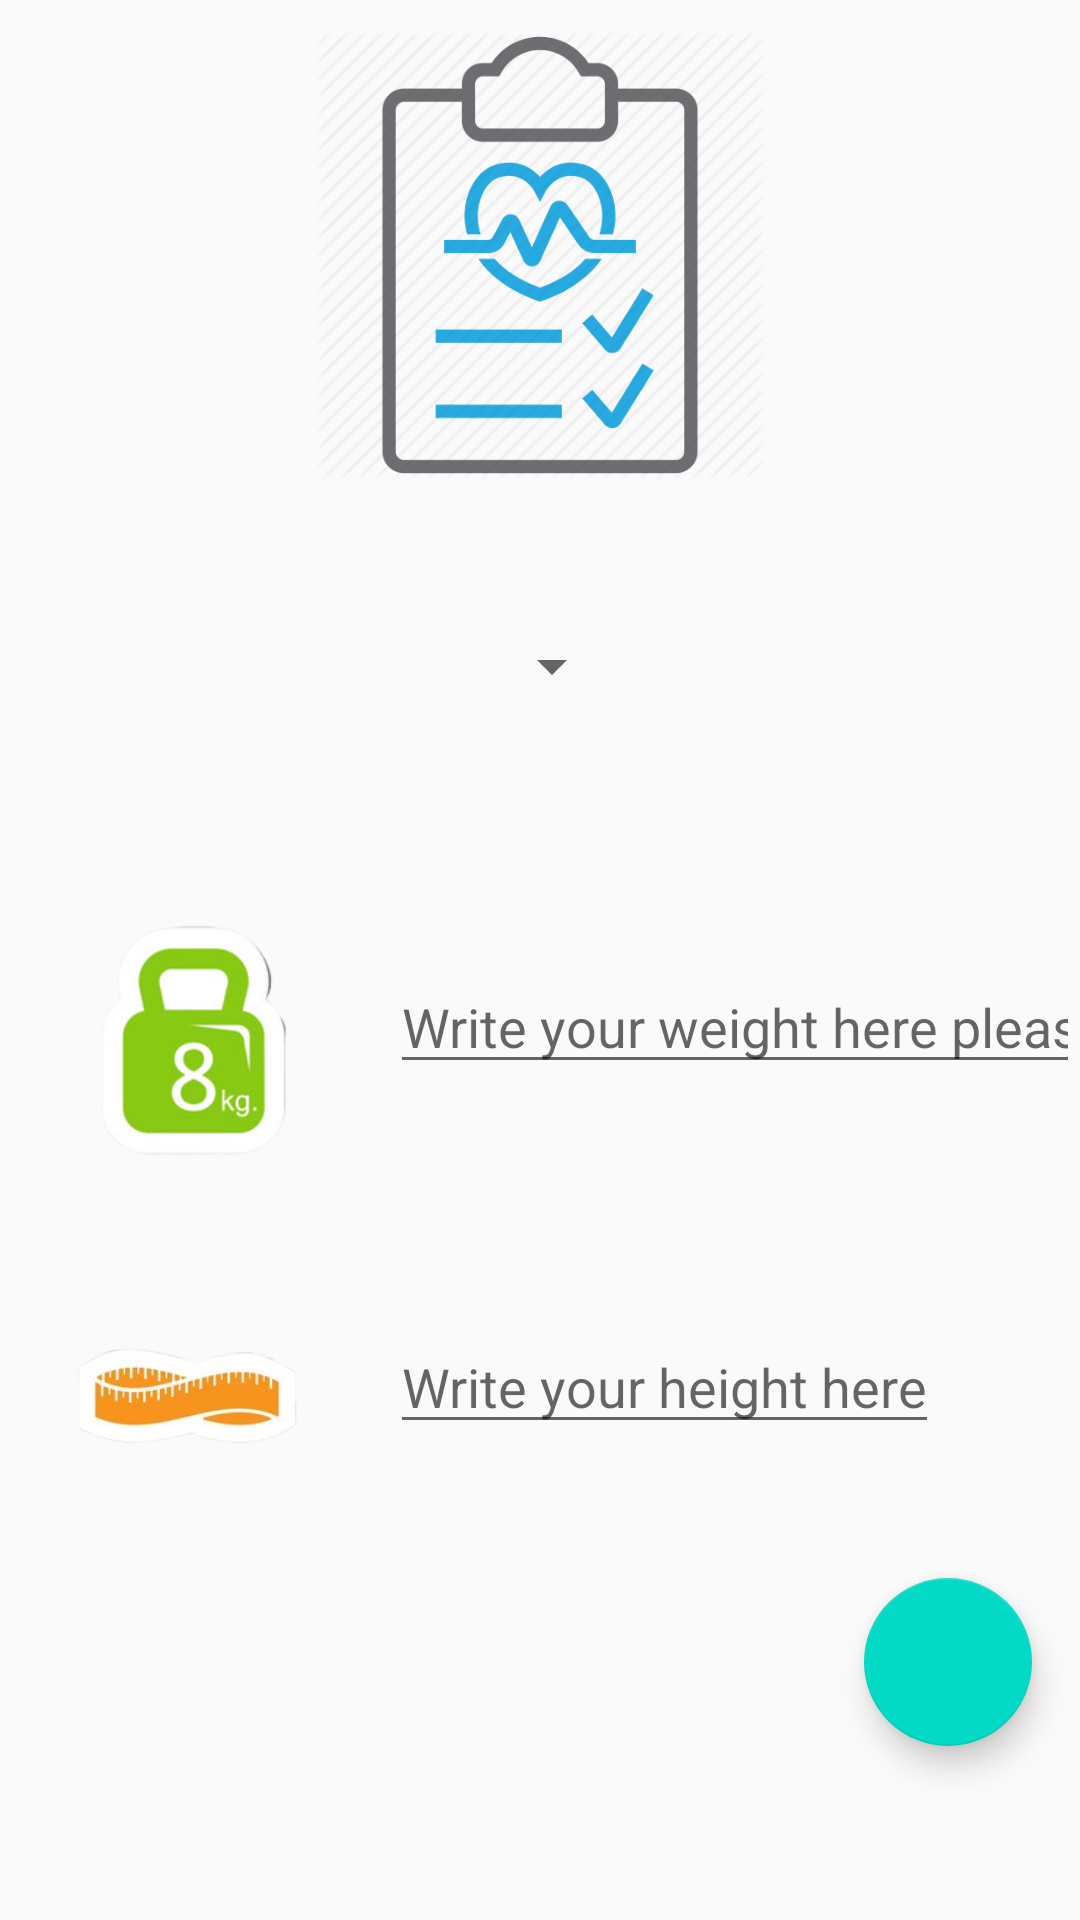

Screen size 1080w x 1920h. Icon name, then its center in pixels as (x,y):
mesure: (195,1388)
poids: (204,1030)
